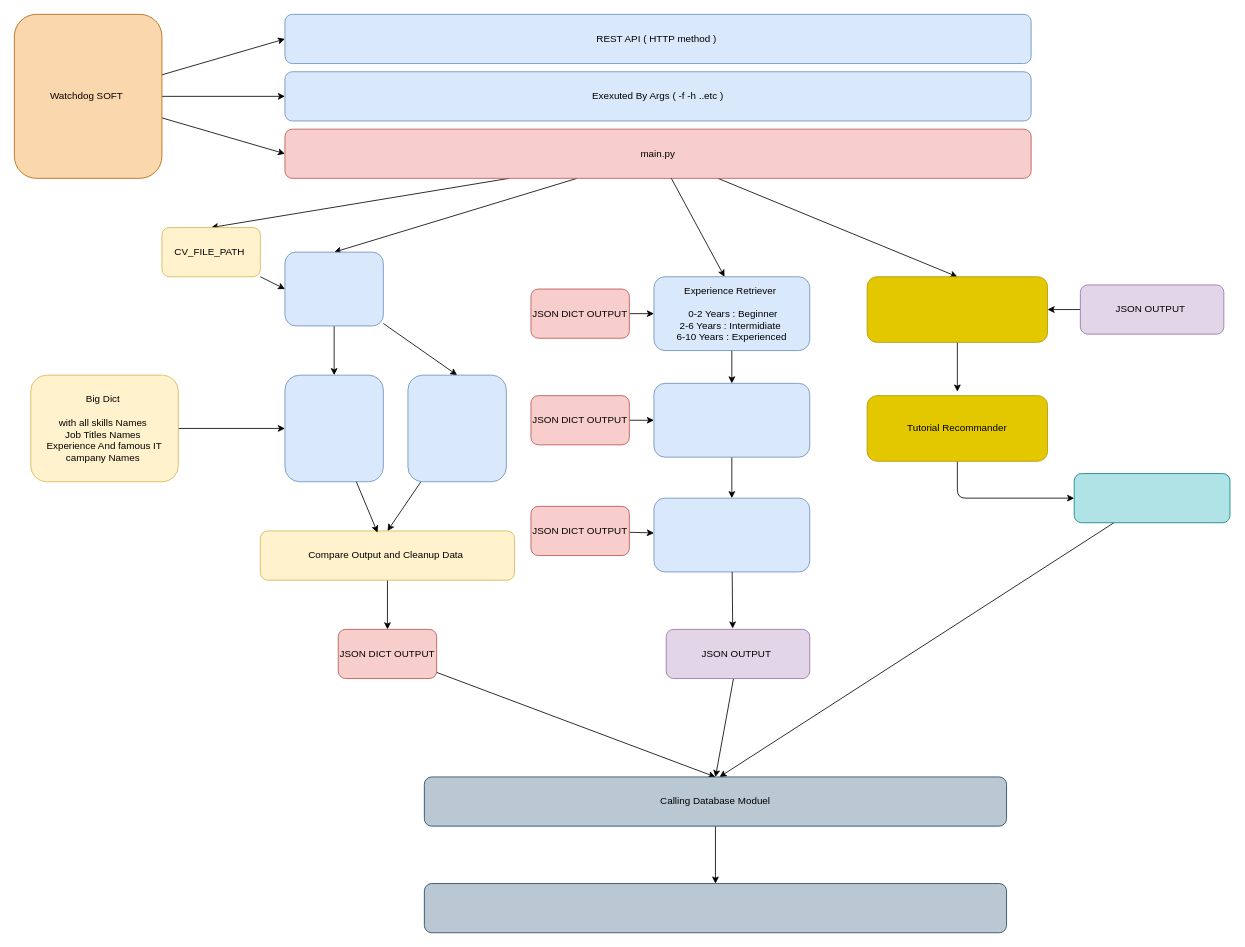
The diagram is 1245 pixels wide and 947 high, and some of its shapes have lost their labels. The shapes that lost their labels are listed below. From the top down, each one's box as (x1, y1, x2, y2) in pixels, then its label:
(284, 251, 383, 326): PDFTextExtractor
(866, 276, 1048, 342): Scoring Algorithm
(284, 374, 383, 482): ResumeInfoExtractor User Info Skills Experience
(407, 374, 506, 482): ResumeInfoExtractor User Info Skills Experience BY PYPARSER
(653, 383, 810, 457): Skills Matching : Android Developer Emebedded System Developer
(1073, 473, 1230, 523): JSON OUTPUT ( Scoring , Tutos ..etc )
(653, 497, 810, 572): Project Verification and Links Certificates ..etc
(424, 883, 1007, 933): FRONTEND INTERFACE
